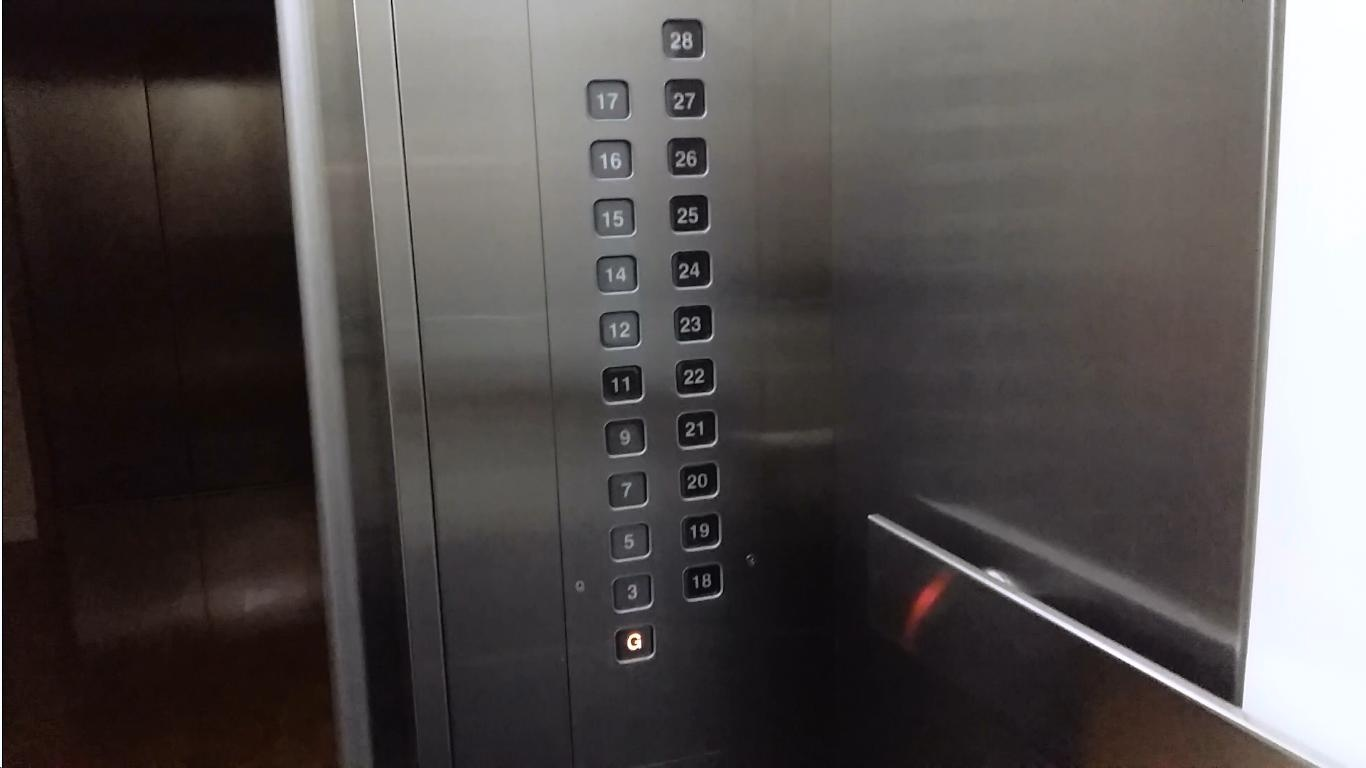11: (596, 360, 645, 406)
12: (597, 307, 644, 351)
14: (592, 254, 640, 296)
15: (590, 196, 637, 241)
16: (587, 138, 637, 181)
17: (584, 77, 633, 123)
18: (680, 559, 725, 604)
19: (680, 510, 723, 555)
20: (677, 458, 721, 504)
21: (675, 407, 720, 454)
22: (671, 355, 718, 398)
23: (671, 302, 716, 345)
24: (667, 247, 715, 293)
25: (666, 191, 714, 236)
26: (664, 133, 710, 180)
27: (660, 75, 707, 120)
28: (657, 14, 708, 61)
3: (611, 569, 655, 614)
5: (608, 519, 652, 564)
7: (607, 469, 650, 510)
9: (604, 414, 649, 459)
G: (612, 619, 657, 664)
